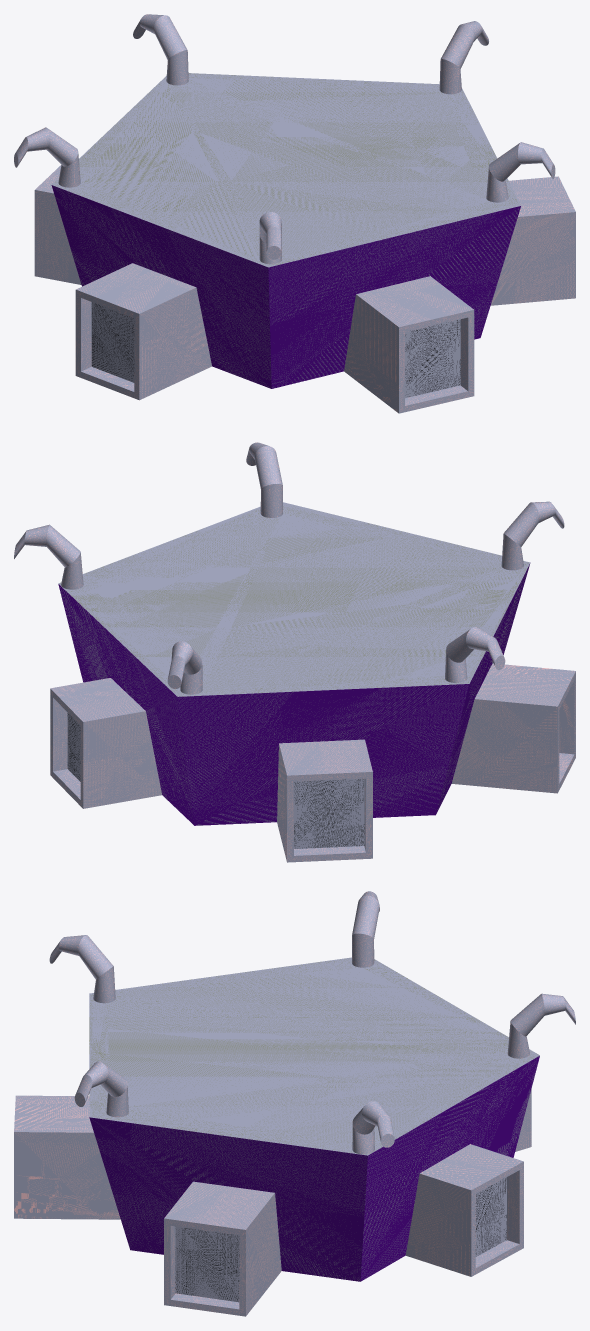
File: Fort.fbx
3 renders of one model, top to bottom at view 1: azimuth 30°, elevation 25°; view 2: azimuth 150°, elevation 25°; view 3: azimuth 270°, elevation 25°, orthographic.
Visible parts, largest first — view 1: Model; view 2: Model; view 3: Model.
Boxes of the visible parts, x1,y1,x2,y2 form: Model: [14, 14, 575, 413]; Model: [14, 442, 575, 862]; Model: [14, 891, 575, 1316].
Size of the model in its own units: 44963 by 17834 by 45346.
